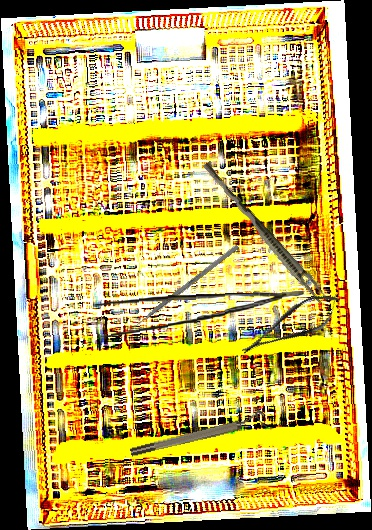Fixation Ring: (128, 409, 267, 459)
Micro Scissor: (234, 284, 348, 366)
Pusher: (122, 244, 240, 337)
Tissue Forceps: (197, 160, 332, 306), (87, 290, 306, 338)
